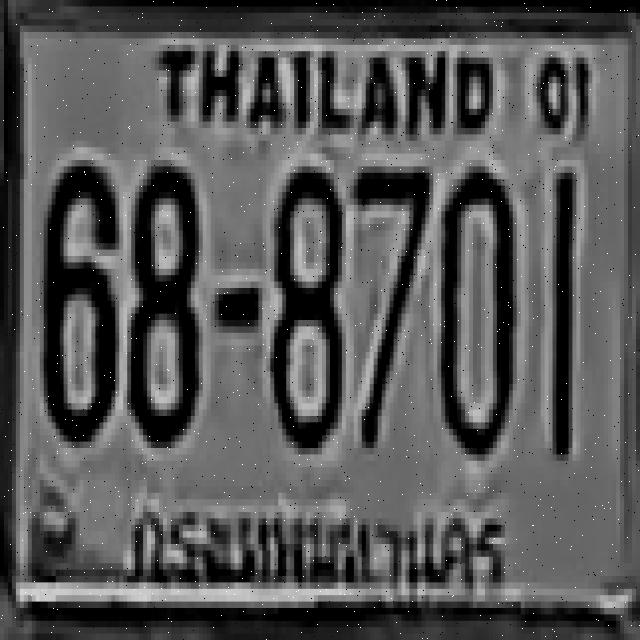0: (437, 160, 513, 448)
1: (548, 166, 572, 454)
6: (40, 154, 116, 436)
7: (350, 160, 426, 442)
8: (266, 160, 338, 442), (127, 160, 195, 442)
Bangkok: (110, 486, 526, 610)
